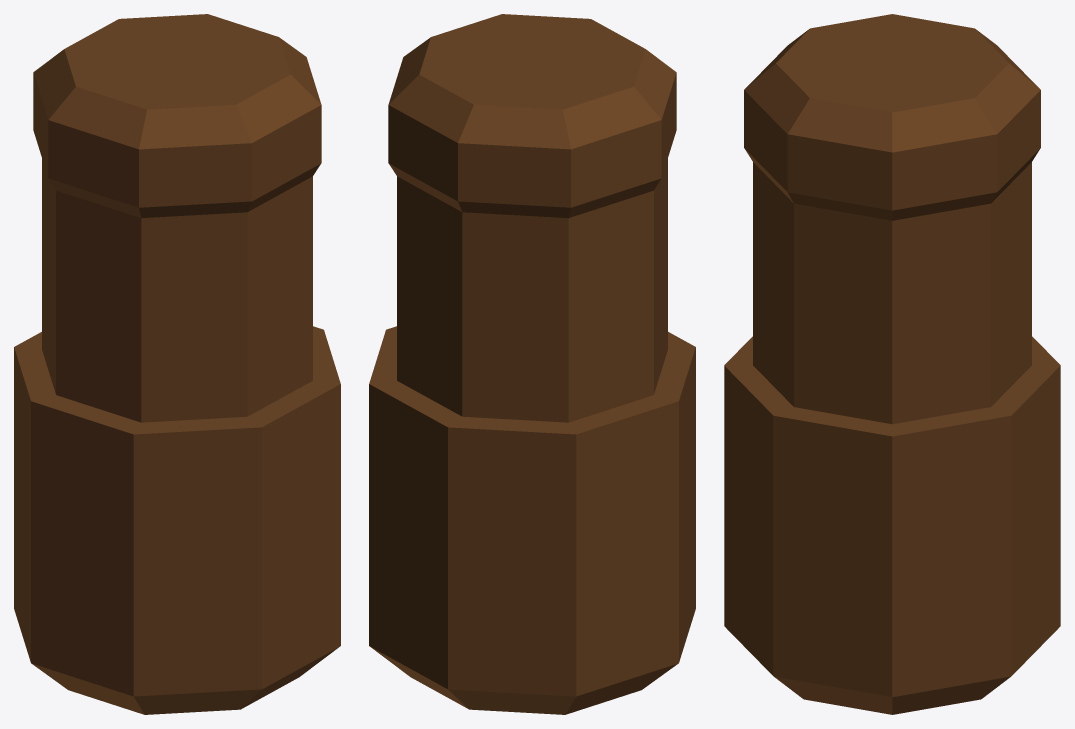
File: tumbukan.glb
The picture shows the model from 3 angles, left to right: view 1: azimuth 30°, elevation 25°; view 2: azimuth 150°, elevation 25°; view 3: azimuth 270°, elevation 25°; orthographic projection.
Visible parts, largest first — view 1: Circle.001; view 2: Circle.001; view 3: Circle.001.
Part boxes in pixels (x1,y1,x2,y2): Circle.001: (14, 14, 340, 714); Circle.001: (369, 14, 695, 714); Circle.001: (724, 14, 1060, 714).
Size of the model in its own units: 0.5318 by 1.04 by 0.5318.
